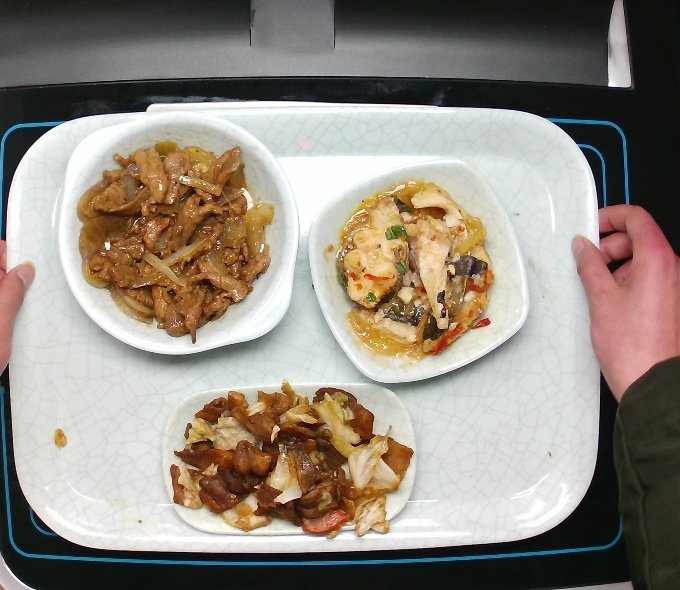wcq-DuoJiaoYuKuai: (332, 181, 497, 359)
wcq-PaoCaiRouPian: (163, 380, 409, 533)
wcq-YangCongRouPian: (78, 139, 265, 332)
